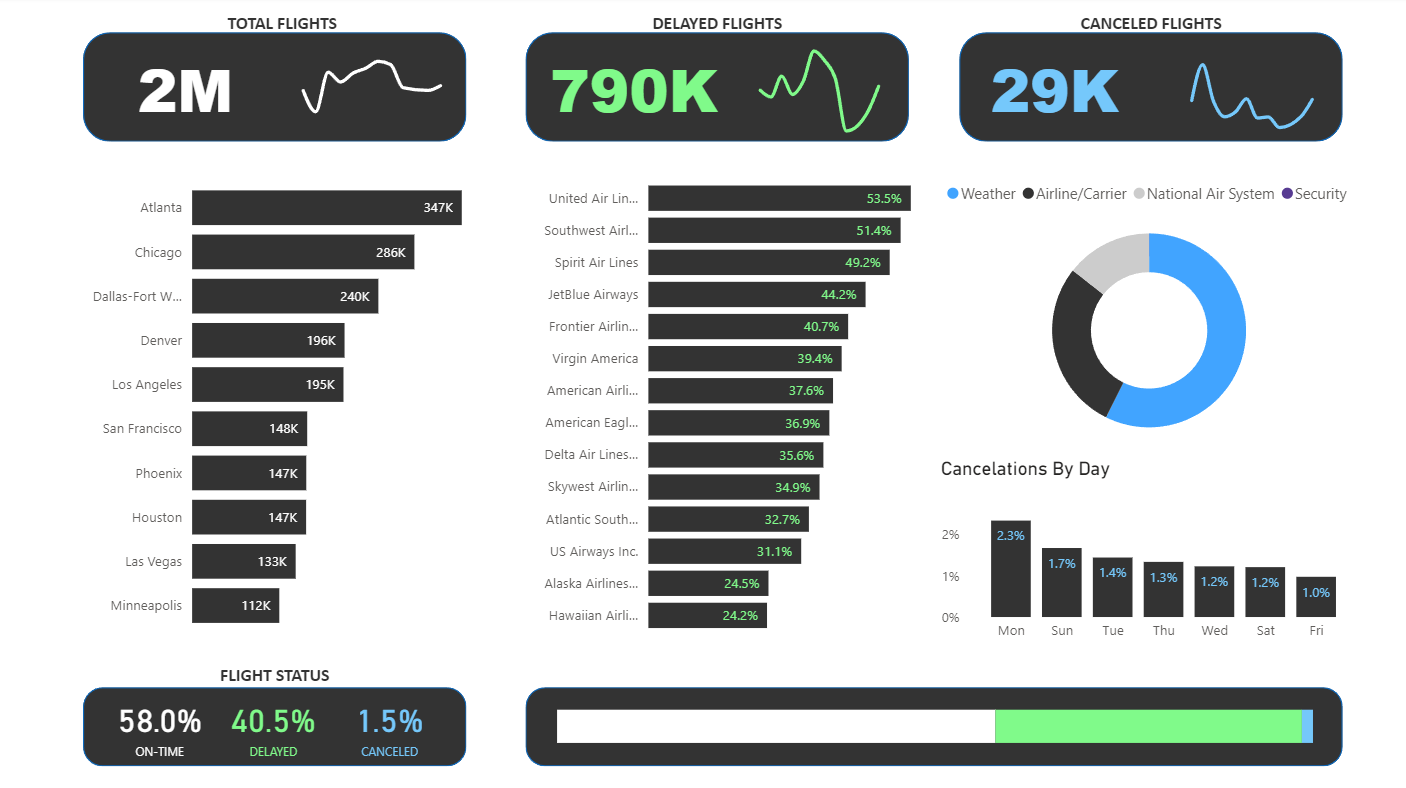

The page's visual inventory and layout, read from the dashboard file:
{"tool":"powerbi","page":{"name":"Page 1","canvas":[1280,720],"ordinal":0},"visuals":[{"type":"shape","box":[81,623,345.8,71.4],"z":0},{"type":"shape","box":[480.3,623,736.9,71.4],"z":1000},{"type":"shape","box":[871.4,32.9,345.8,98.8],"z":2000},{"type":"shape","box":[480.3,32.9,345.8,98.8],"z":3000},{"type":"shape","box":[81,32.9,345.8,98.8],"z":4000},{"type":"card","fields":{"Values":["flights.Total Flights"]},"box":[81,32.9,185.2,98.8],"z":5000},{"type":"lineChart","fields":{"Category":["flights.MONTH"],"Y":["flights.Total Flights"]},"box":[253.9,32.9,199,98.8],"z":6000},{"type":"card","fields":{"Values":["flights.Delayed Flights"]},"box":[480.3,32.9,196.2,98.8],"z":7000},{"type":"lineChart","fields":{"Category":["flights.MONTH"],"Y":["flights.Delayed Flights"]},"box":[666.9,32.9,175.6,98.8],"z":8000},{"type":"card","fields":{"Values":["flights.Canceled Flights"]},"box":[871.4,32.9,172.9,98.8],"z":9000},{"type":"card","title":"ON-TIME","fields":{"Values":["flights.% On-Time"]},"box":[81,623,138.6,71.4],"z":10000},{"type":"card","fields":{"Values":["flights.% Delayed"]},"box":[183.9,623,138.6,71.4],"z":11000},{"type":"card","fields":{"Values":["flights.% Canceled"]},"box":[288.2,623,138.6,71.4],"z":12000},{"type":"barChart","fields":{"Category":["airports.CITY"],"Y":["flights.Total Flights"]},"box":[68.6,146.8,393.8,440.5],"z":13000},{"type":"barChart","fields":{"Category":["airlines.AIRLINE"],"Y":["flights.% Delayed"]},"box":[480.3,146.8,391.1,440.5],"z":14000},{"type":"hundredPercentStackedBarChart","fields":{"Y":["flights.Total Flights"],"Series":["flights.Status"]},"box":[503.6,590.1,691.6,130.4],"z":15000},{"type":"lineChart","fields":{"Category":["flights.MONTH"],"Y":["flights.Canceled Flights"]},"box":[1056.6,32.9,178.4,98.8],"z":16000},{"type":"textbox","box":[81,596.9,345.8,32.9],"z":17000},{"type":"textbox","box":[871.4,9.6,345.8,39.8],"z":18000},{"type":"textbox","box":[480.3,9.6,345.8,39.8],"z":19000},{"type":"textbox","box":[87.8,9.6,345.8,39.8],"z":20000},{"type":"clusteredColumnChart","title":"Cancelations By Day","fields":{"Y":["flights.% Canceled"],"Category":["flights.Day Abbrev"]},"box":[849.4,415.8,385.6,174.3],"z":21000},{"type":"donutChart","fields":{"Category":["cancellation_codes.CANCELLATION_DESCRIPTION"],"Y":["flights.Canceled Flights"]},"box":[849.4,157.8,385.6,258],"z":22000}]}

Visuals, with their boxes in screenshot pixels (x1, y1, x2, y2), scaled from the page's 1280x720 canvas onto the 1406x788 screenshot:
shape: 89 682 469 760
shape: 528 682 1337 760
shape: 957 36 1337 144
shape: 528 36 907 144
shape: 89 36 469 144
card - flights.Total Flights: 89 36 292 144
lineChart - flights.MONTH x flights.Total Flights: 279 36 497 144
card - flights.Delayed Flights: 528 36 743 144
lineChart - flights.MONTH x flights.Delayed Flights: 733 36 925 144
card - flights.Canceled Flights: 957 36 1147 144
"ON-TIME" card: 89 682 241 760
card - flights.% Delayed: 202 682 354 760
card - flights.% Canceled: 317 682 469 760
barChart - airports.CITY x flights.Total Flights: 75 161 508 643
barChart - airlines.AIRLINE x flights.% Delayed: 528 161 957 643
hundredPercentStackedBarChart - flights.Total Flights x flights.Status: 553 646 1313 787
lineChart - flights.MONTH x flights.Canceled Flights: 1161 36 1357 144
textbox: 89 653 469 689
textbox: 957 11 1337 54
textbox: 528 11 907 54
textbox: 96 11 476 54
"Cancelations By Day" clusteredColumnChart: 933 455 1357 646
donutChart - cancellation_codes.CANCELLATION_DESCRIPTION x flights.Canceled Flights: 933 173 1357 455
